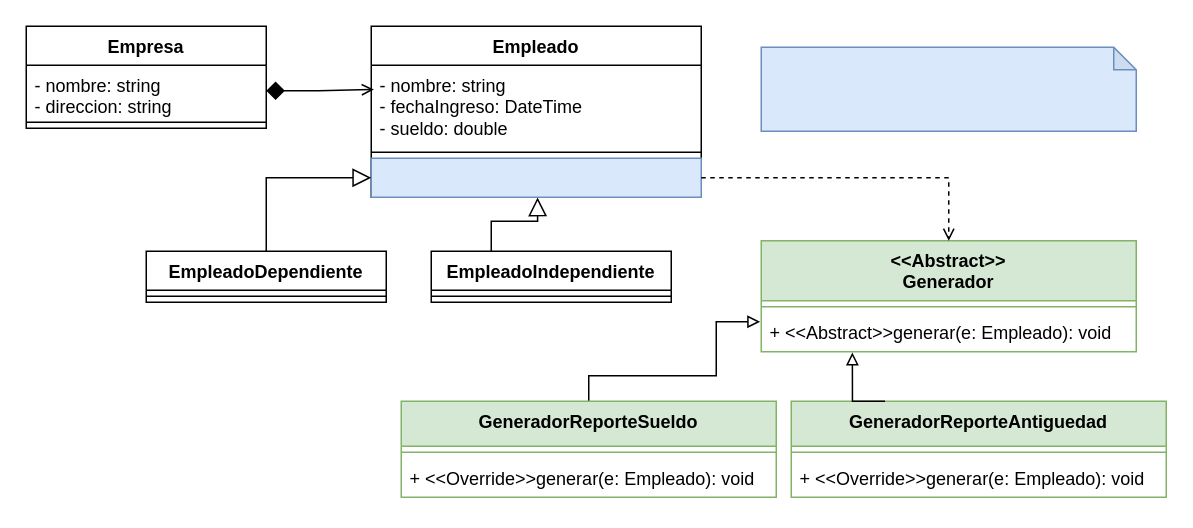
This 1193x528 diagram has some shape labels left out. Here are the shapes that lost their labels. From the top down, the centre of each, then its label:
the point at 948,88: public void generarReporte(Generador g){ g.generar(this); }
the point at 535,177: + generarReporte(g: Generador): void
